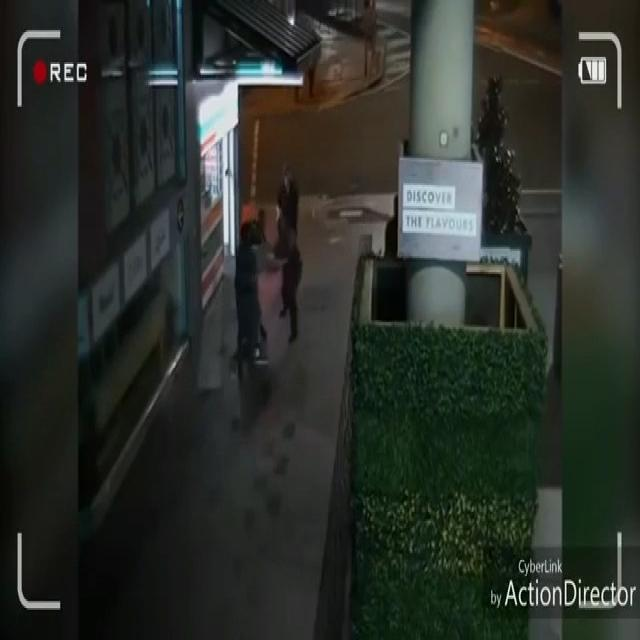fight: (231, 188, 310, 364)
